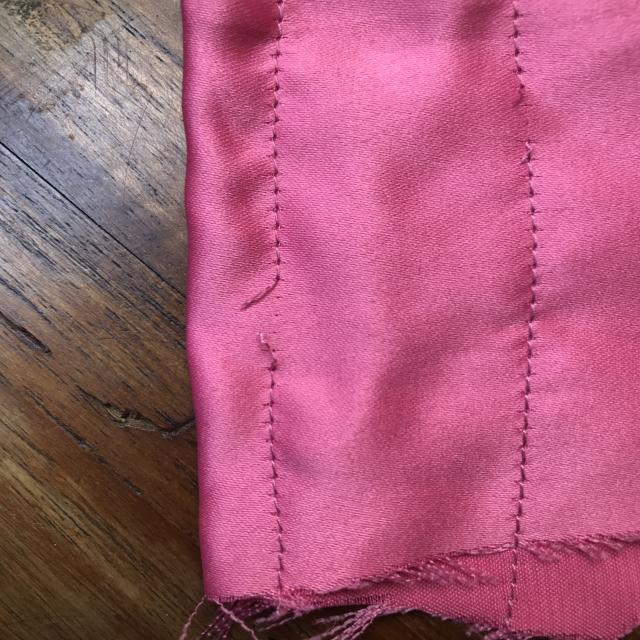broken: (231, 252, 304, 385)
